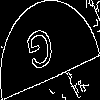G: (25, 25, 57, 81)
